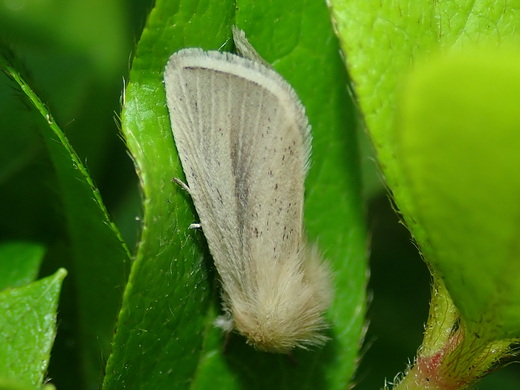Noctuidae: (160, 24, 337, 360)
